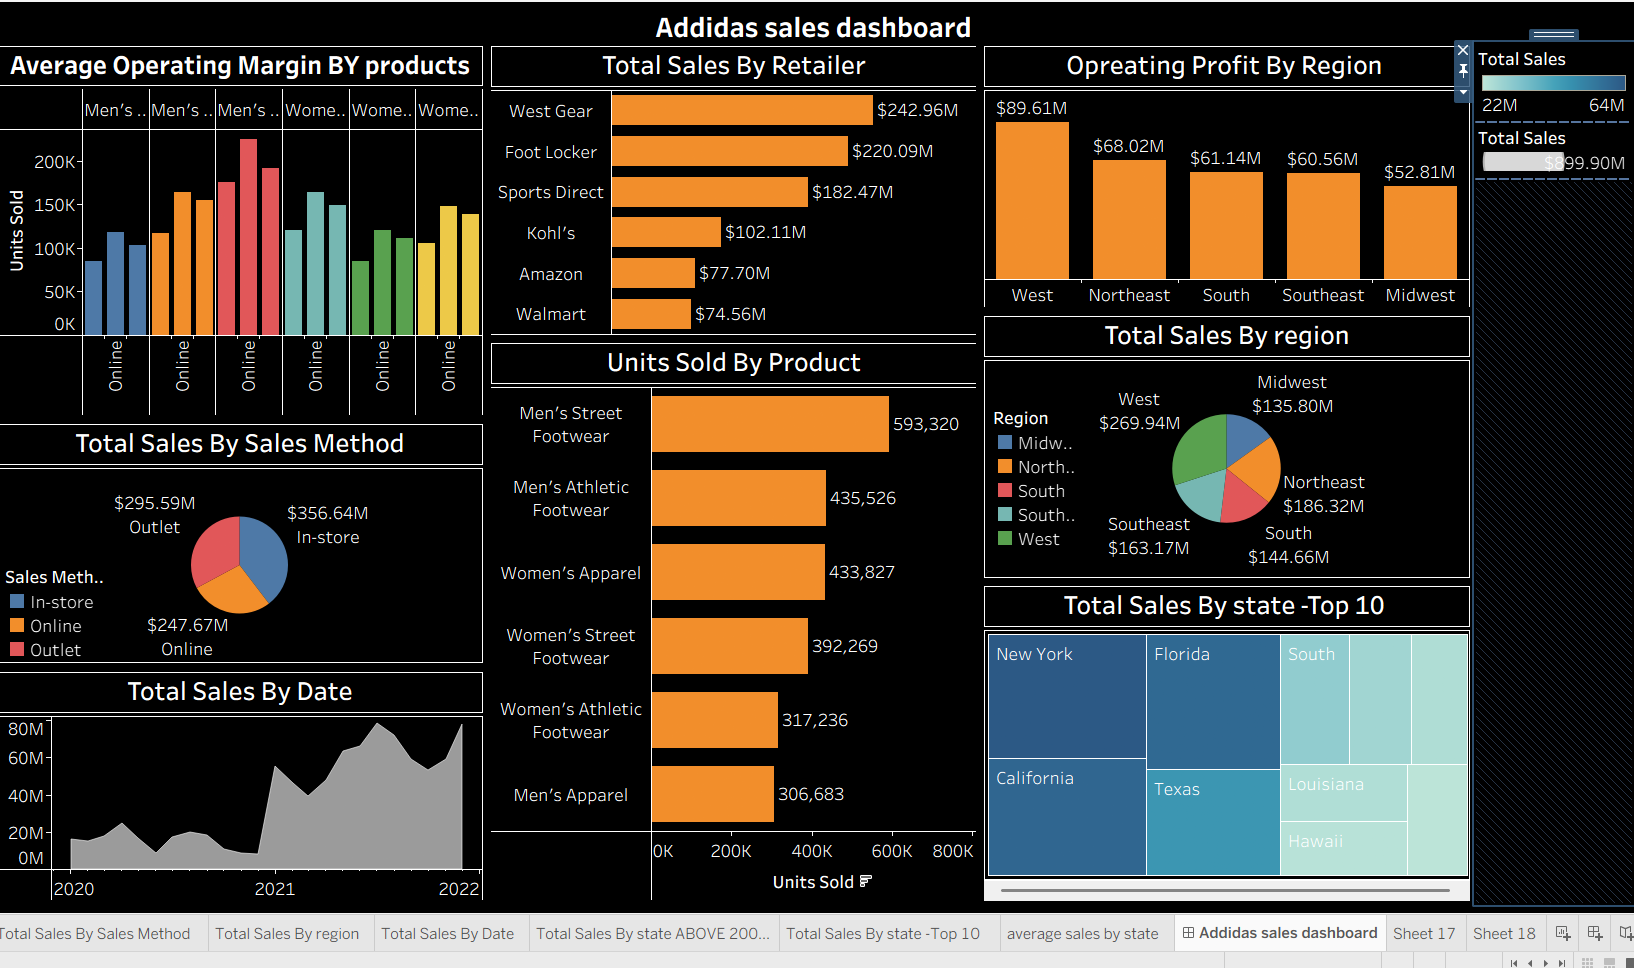

The page's visual inventory and layout, read from the dashboard file:
{"tool":"tableau","page":{"name":"Addidas sales dashboard","canvas":[1000,1000],"units":"permille","ordinal":0},"visuals":[{"type":"title","box":[4.8,8.8,990.3,35.1]},{"type":"worksheet","title":"Average Operating Margin BY products","mark":"Automatic","rows":["Units Sold"],"cols":["Product","Sales Method"],"box":[4.8,43.9,297.9,415.4]},{"type":"worksheet","title":"Total Sales By Retailer","mark":"Automatic","rows":["Retailer"],"cols":["Total Sales"],"box":[302.7,43.9,297.9,326.4]},{"type":"worksheet","title":"Opreating Profit By Region ","mark":"Automatic","rows":["Operating Profit"],"cols":["Region"],"box":[600.6,43.9,298,296.3]},{"type":"legend","title":"Total Sales By state -Top 10 ","param":"[federated.1tjig50033yeh115jsya80mbg2tn].[sum:Total Sales:qk]","box":[898.6,43.9,96.6,86.7]},{"type":"legend","title":"Total Sales By Sales Method","param":"[federated.1tjig50033yeh115jsya80mbg2tn].[sum:Total Sales:qk]","box":[898.6,130.6,96.6,62.6]},{"type":"worksheet","title":"Total Sales By region","mark":"Pie","box":[600.6,340.2,298,296.3]},{"type":"worksheet","title":"Units Sold By Product","mark":"Automatic","rows":["Product"],"cols":["Units Sold"],"box":[302.7,370.3,297.9,620.9]},{"type":"legend","title":"Total Sales By region","param":"[federated.1tjig50033yeh115jsya80mbg2tn].[none:Region:nk]","box":[608.3,442.4,53.1,186.6]},{"type":"worksheet","title":"Total Sales By Sales Method","mark":"Pie","box":[4.8,459.4,297.9,271.3]},{"type":"legend","title":"Total Sales By Sales Method","param":"[federated.1tjig50033yeh115jsya80mbg2tn].[none:Sales Method:nk]","box":[12.1,616.9,62.2,106.5]},{"type":"worksheet","title":"Total Sales By state -Top 10 ","mark":"Automatic","box":[600.6,636.4,298,354.8]},{"type":"worksheet","title":"Total Sales By Date","mark":"Area","rows":["Total Sales"],"cols":["Invoice Date"],"box":[4.8,730.6,297.9,260.6]}]}

Visuals, with their boxes on the dashboard's canvas, which has no fixed pixel size, in thousandths of its width and height (x1, y1, x2, y2). These are canvas units, not pixel positions in the 1634x968 screenshot, which may show the page scaled, cropped or inside an application window:
title: <bbox>5, 9, 995, 44</bbox>
"Average Operating Margin BY products" worksheet: <bbox>5, 44, 303, 459</bbox>
"Total Sales By Retailer" worksheet: <bbox>303, 44, 601, 370</bbox>
"Opreating Profit By Region " worksheet: <bbox>601, 44, 899, 340</bbox>
"Total Sales By state -Top 10 " legend: <bbox>899, 44, 995, 131</bbox>
"Total Sales By Sales Method" legend: <bbox>899, 131, 995, 193</bbox>
"Total Sales By region" worksheet (Pie marks): <bbox>601, 340, 899, 636</bbox>
"Units Sold By Product" worksheet: <bbox>303, 370, 601, 991</bbox>
"Total Sales By region" legend: <bbox>608, 442, 661, 629</bbox>
"Total Sales By Sales Method" worksheet (Pie marks): <bbox>5, 459, 303, 731</bbox>
"Total Sales By Sales Method" legend: <bbox>12, 617, 74, 723</bbox>
"Total Sales By state -Top 10 " worksheet: <bbox>601, 636, 899, 991</bbox>
"Total Sales By Date" worksheet (Area marks): <bbox>5, 731, 303, 991</bbox>
